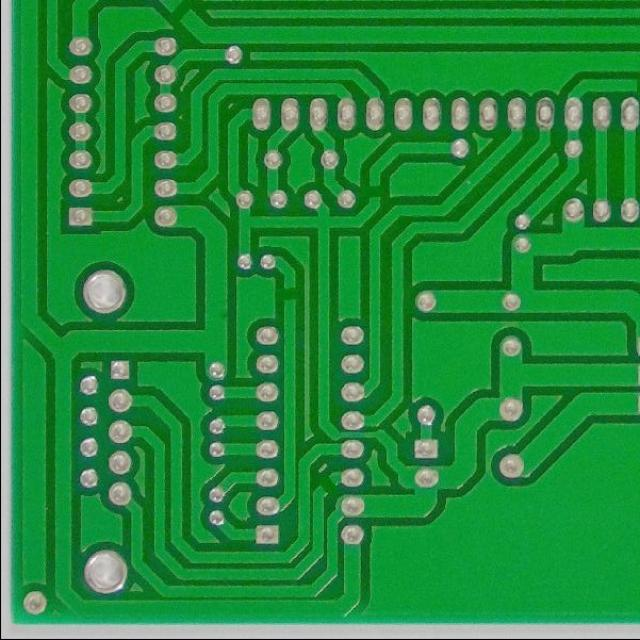Open_Circuit: (276, 280, 303, 310), (360, 178, 389, 204), (315, 474, 340, 497)
